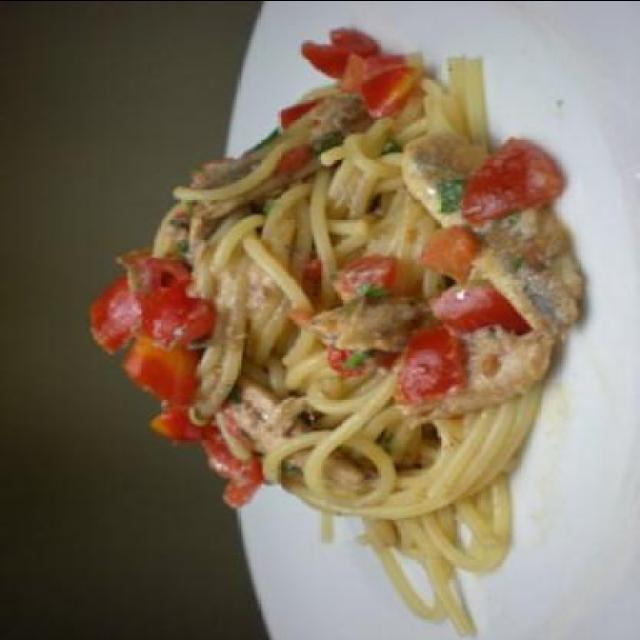Oil pasta: (69, 28, 617, 524)
